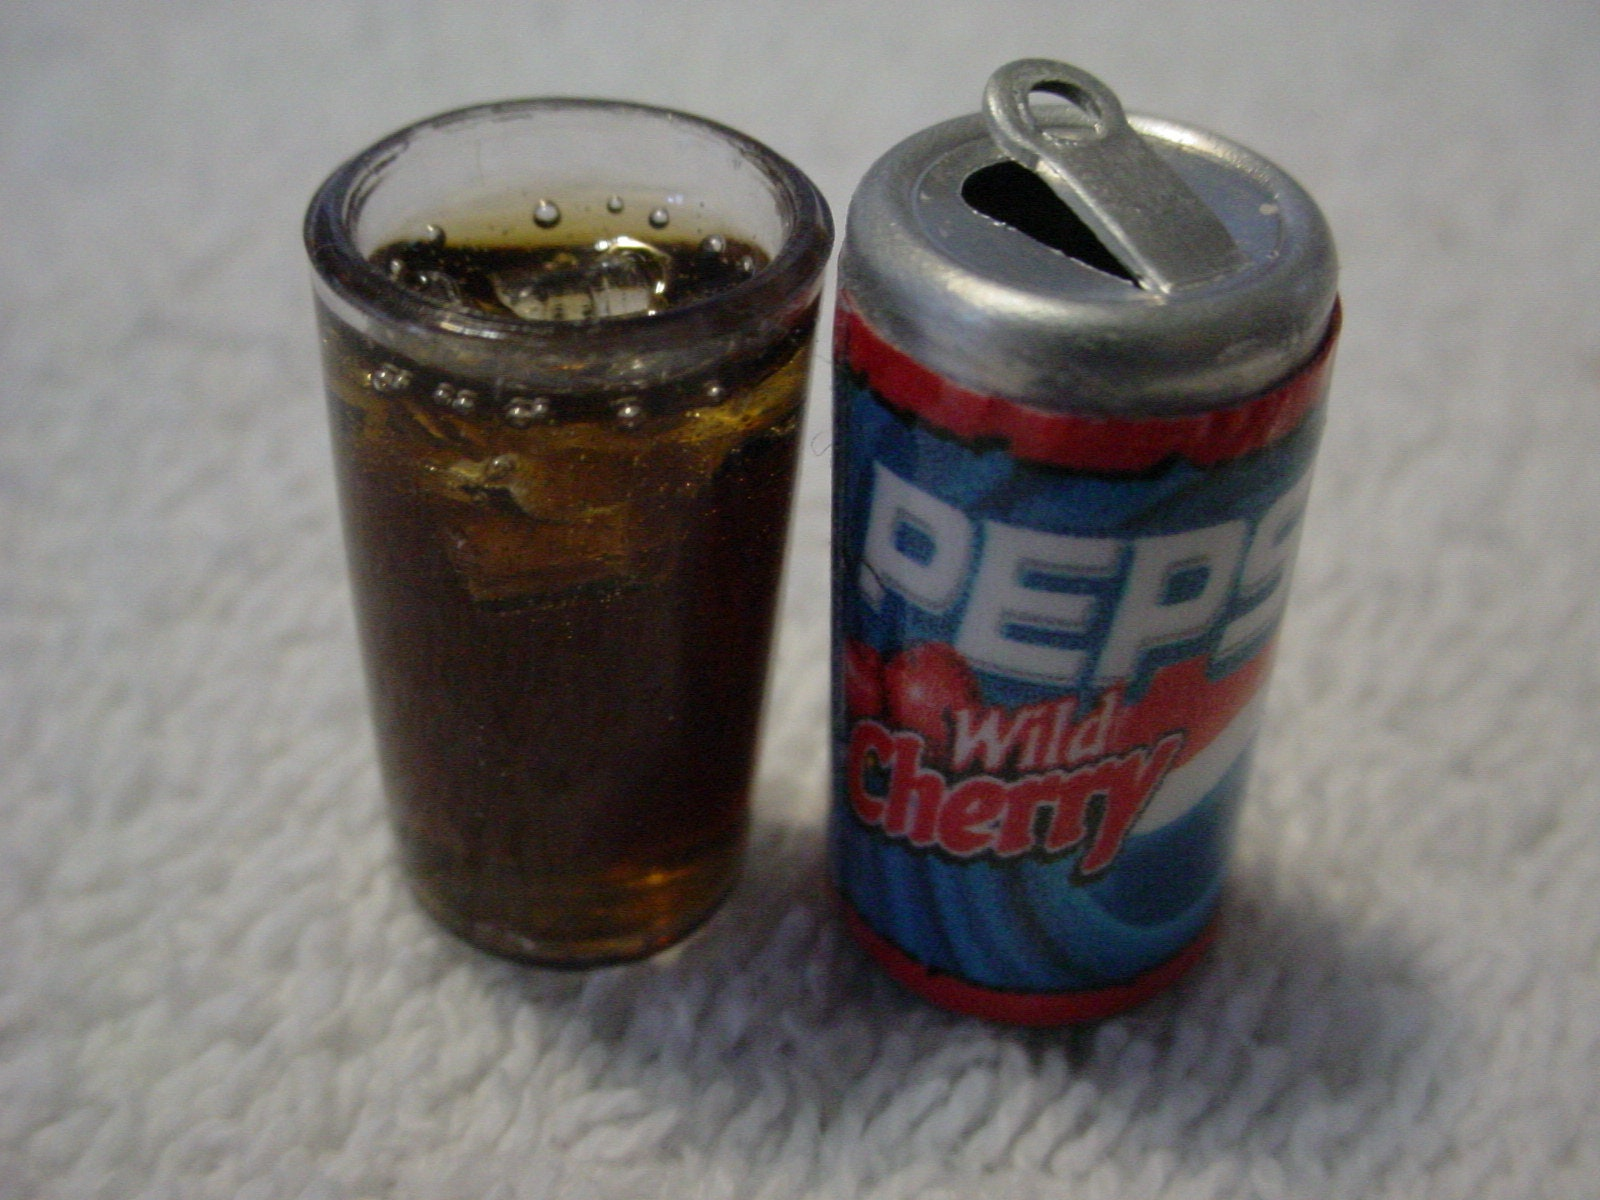can: (823, 68, 1352, 1040)
